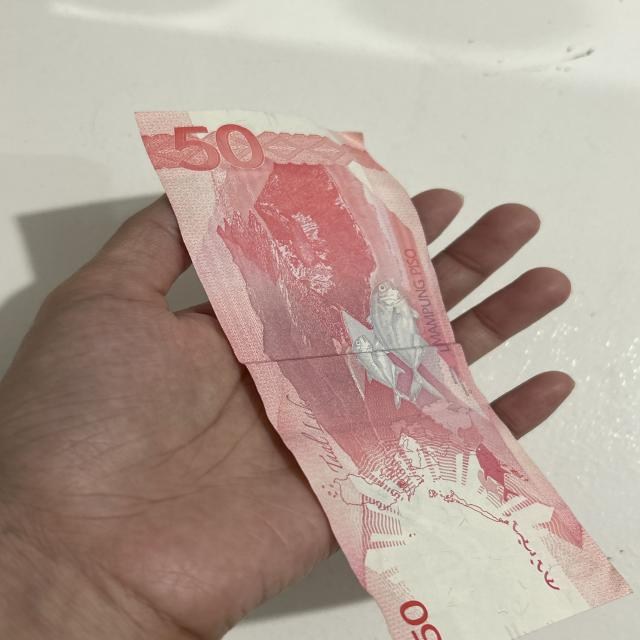security_thread: (273, 395, 497, 455)
see_through_mark: (496, 514, 568, 596)
value: (167, 115, 270, 184)
